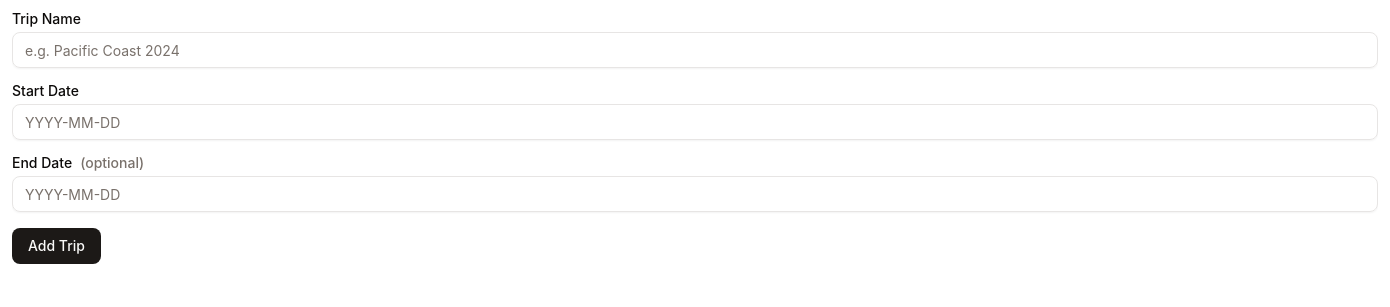
Test: TripForm › shows a validation error when submitted with an empty start date
In the field labelled "Trip Name": (695, 50) x1=12 y1=32 x2=1378 y2=68, type "Pacific Coast"
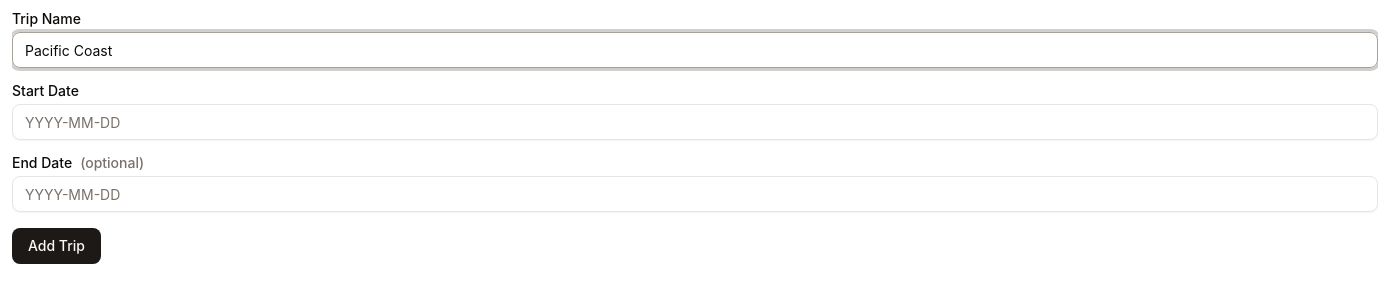
Click the button "Add Trip": (56, 246) x1=12 y1=228 x2=101 y2=264
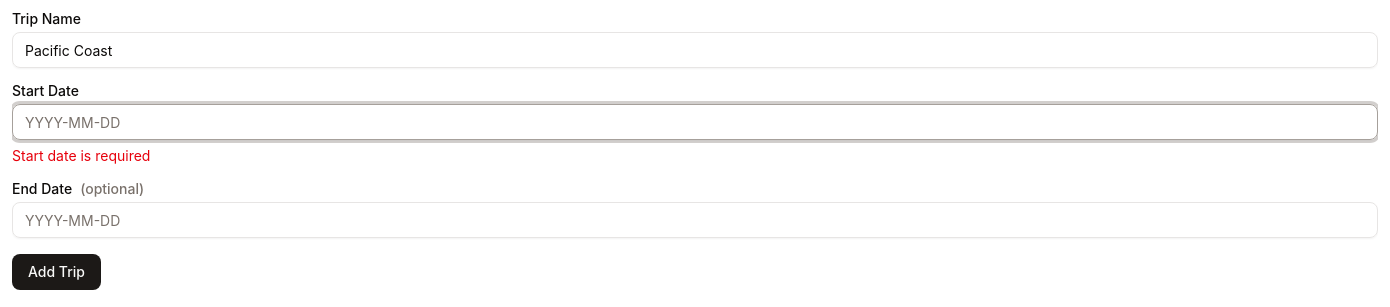
Result: the text "Start date is required" is shown at x1=12 y1=147 x2=150 y2=164
